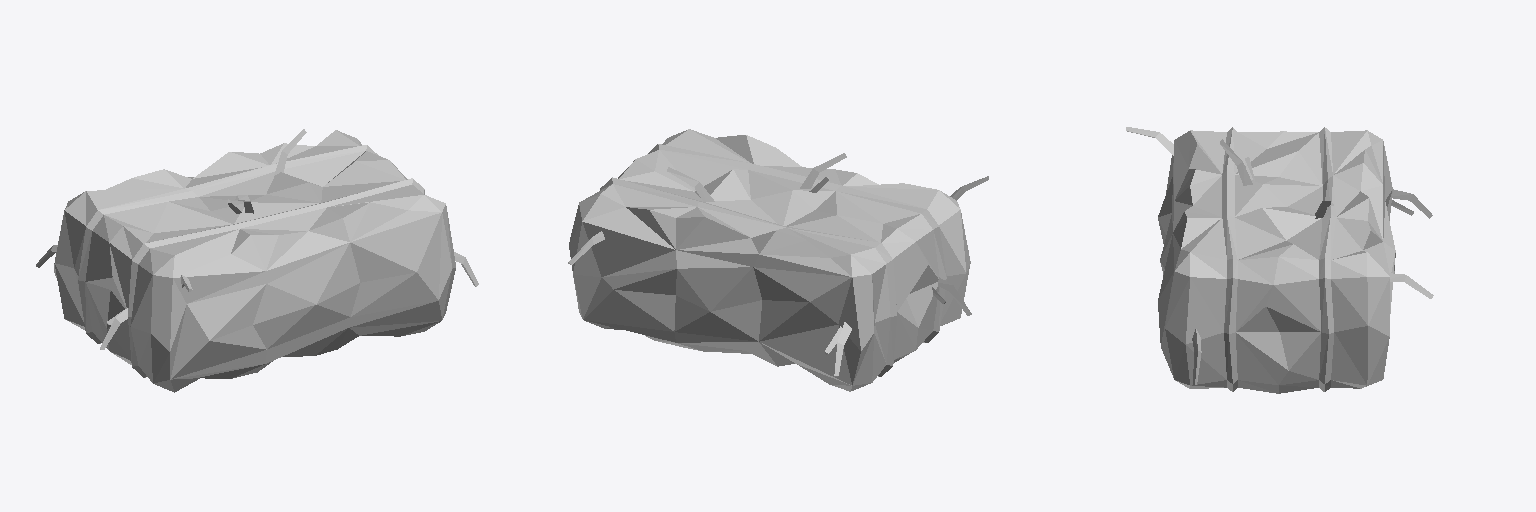
Rendered from SM_Prop_Hay_Bale_Square_01.obj.
3 renders of one model, left to right at view 1: azimuth 30°, elevation 25°; view 2: azimuth 150°, elevation 25°; view 3: azimuth 270°, elevation 25°, orthographic.
Size of the model in its own units: 191 by 94.74 by 141.